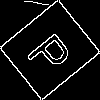P: (24, 25, 81, 79)
